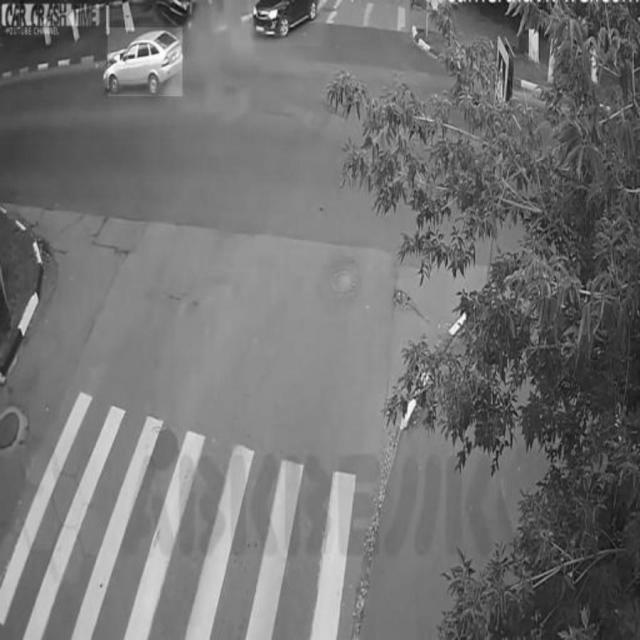vehicle: (108, 28, 182, 96), (248, 1, 322, 47)
